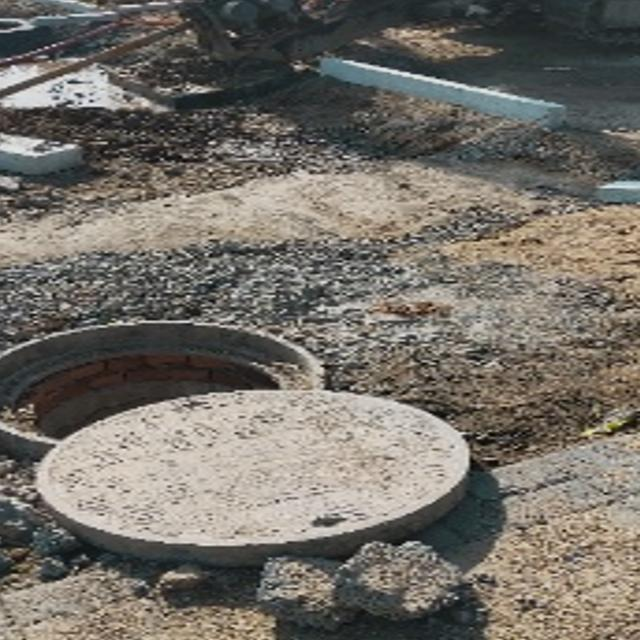uncovered: (0, 315, 473, 559)
